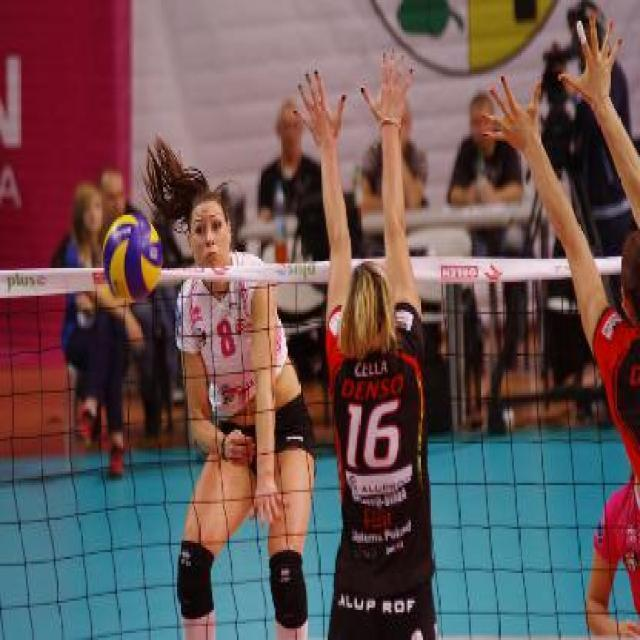volleyball: (103, 214, 163, 302)
